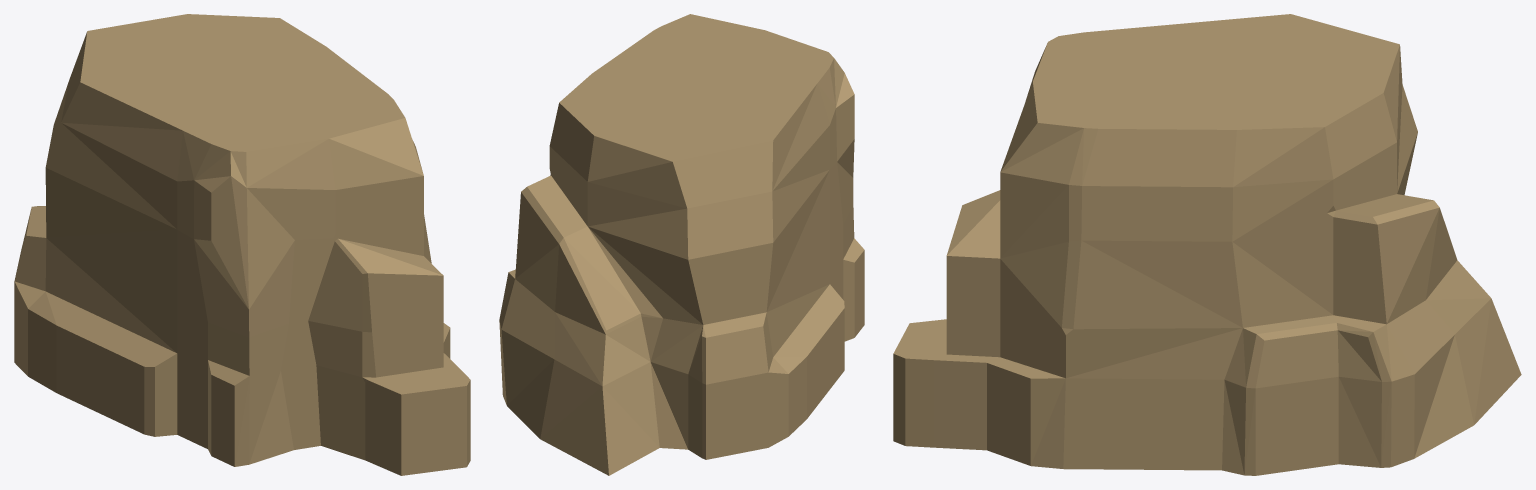
Rendered from Cliff_001.gltf.
The picture shows the model from 3 angles, left to right: view 1: azimuth 30°, elevation 25°; view 2: azimuth 150°, elevation 25°; view 3: azimuth 270°, elevation 25°; orthographic projection. The views are drawn at different scales.
Visible parts, largest first — view 1: Cliff.001-col; view 2: Cliff.001-col; view 3: Cliff.001-col.
Boxes of the visible parts, left/top/right/bottom form: Cliff.001-col: left=14, top=14, right=470, bottom=475; Cliff.001-col: left=499, top=14, right=864, bottom=475; Cliff.001-col: left=893, top=14, right=1521, bottom=475.
Bounding box in the file's own units: 6.31 × 6.08 × 10.68.
